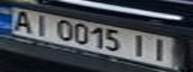0: (51, 17, 75, 42), (69, 20, 90, 46)
1: (87, 25, 106, 50)
5: (103, 27, 127, 54)
A: (6, 8, 36, 34)
I: (145, 35, 175, 63), (27, 11, 54, 37), (127, 32, 151, 58)
